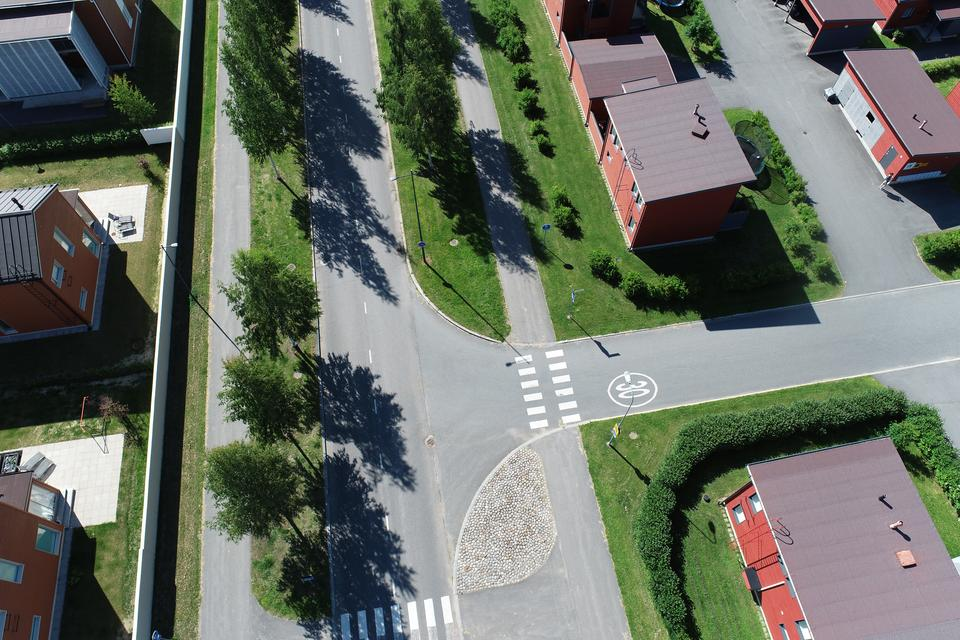intersection: (289, 290, 615, 450), (180, 564, 653, 640)
